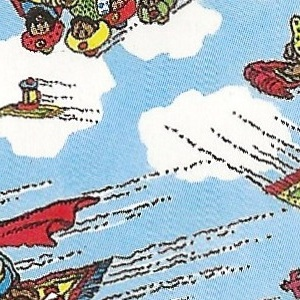Odlaw: (142, 110, 158, 189)
